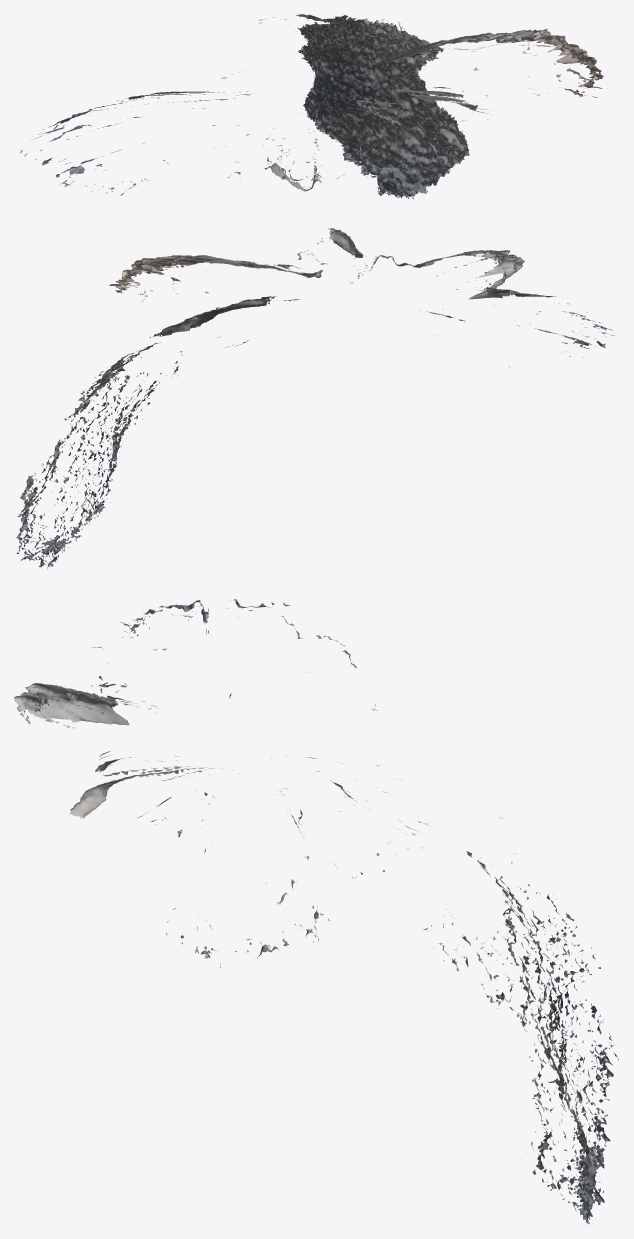
The model's file is 1052-collider.glb.
3 renders of one model, top to bottom at view 1: azimuth 30°, elevation 25°; view 2: azimuth 150°, elevation 25°; view 3: azimuth 270°, elevation 25°, orthographic. The views are drawn at different scales.
Visible parts, largest first — view 1: world; view 2: world; view 3: world.
Boxes of the visible parts, bbox=[...] form: world: bbox=[20, 14, 610, 199]; world: bbox=[16, 228, 614, 569]; world: bbox=[14, 599, 618, 1224].
Size of the model in its own units: 74.32 by 36.72 by 59.32.
